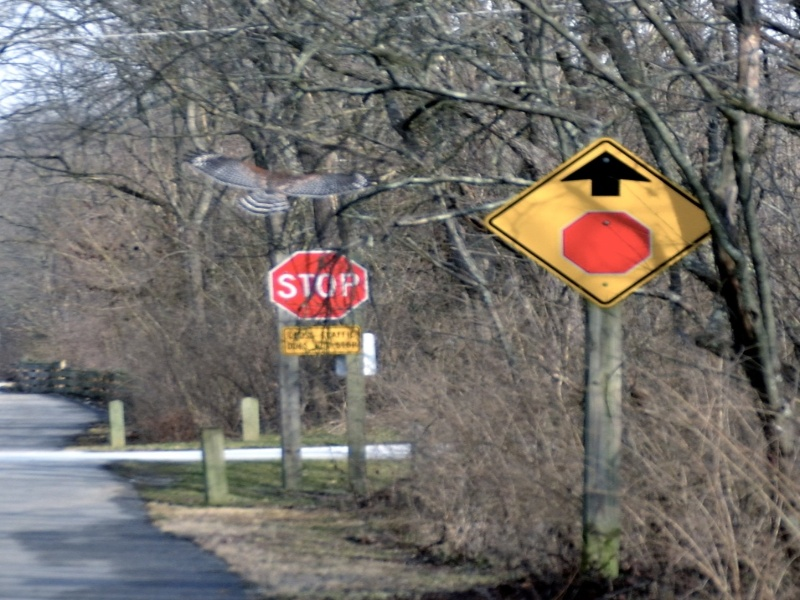stop: (271, 238, 390, 324)
